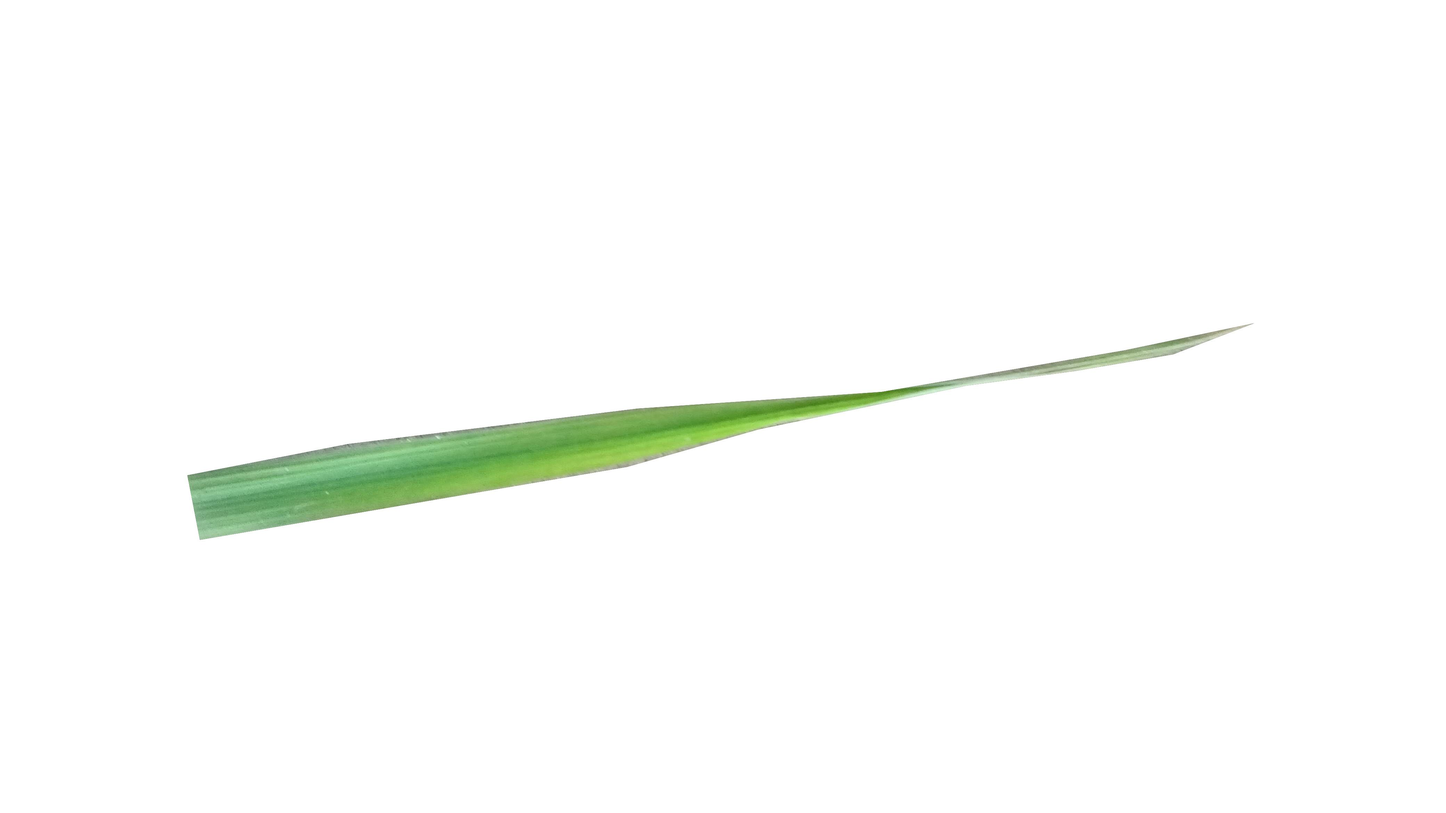Tungro: (379, 406, 839, 507)
